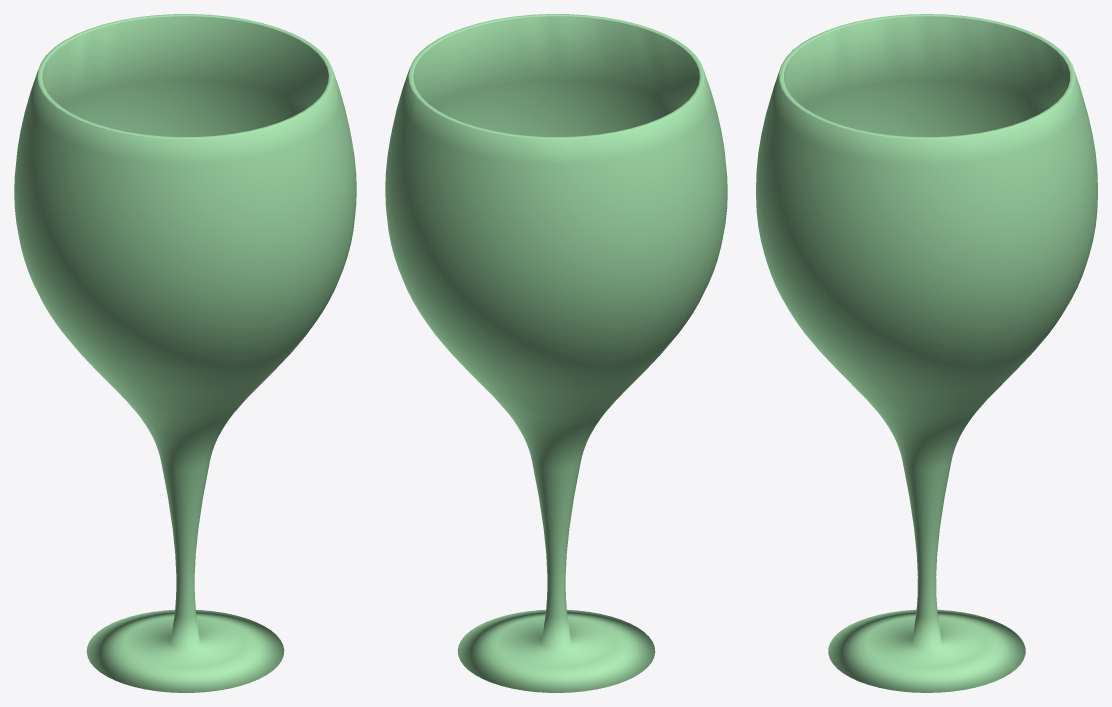
File: Collection_3.fbx
The picture shows the model from 3 angles, left to right: view 1: azimuth 30°, elevation 25°; view 2: azimuth 150°, elevation 25°; view 3: azimuth 270°, elevation 25°; orthographic projection.
Parts seen in each view (by area): view 1: KitchenGlasses.003; view 2: KitchenGlasses.003; view 3: KitchenGlasses.003.
Part boxes in pixels (x1,y1,x2,y2): KitchenGlasses.003: (14, 14, 356, 692); KitchenGlasses.003: (385, 14, 727, 692); KitchenGlasses.003: (756, 14, 1097, 692).
Size of the model in its own units: 0.0911 by 0.1688 by 0.0909.
